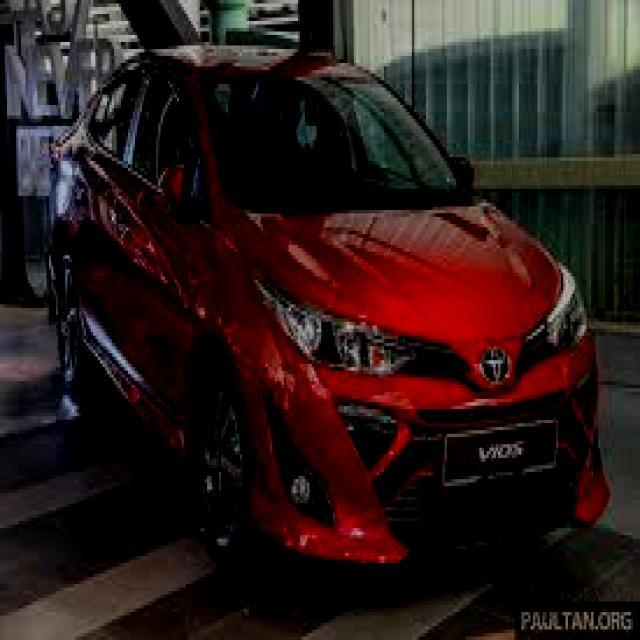ToyotaVios: (44, 42, 611, 577)
